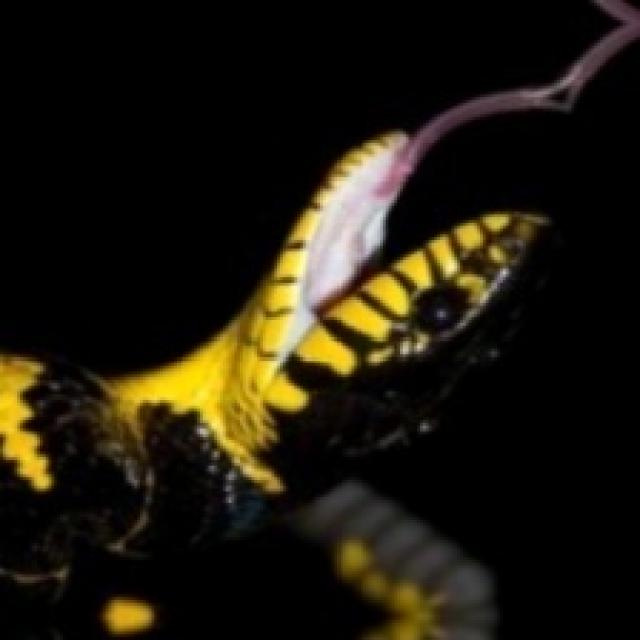mangrove cat snake: (0, 134, 546, 637), (282, 0, 640, 359)
